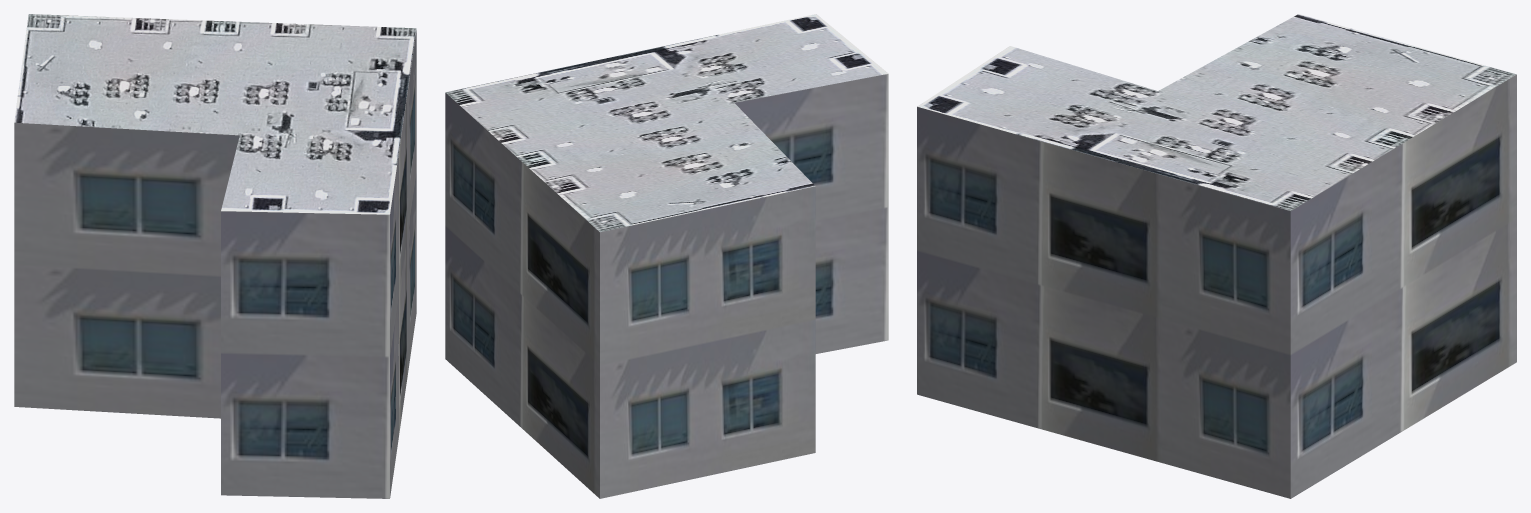
File: ResTex__4395.fbx
3 views of the same model, side by side, from view 1: azimuth 30°, elevation 25°; view 2: azimuth 150°, elevation 25°; view 3: azimuth 270°, elevation 25° (orthographic). The views are drawn at different scales.
Parts seen in each view (by area): view 1: CityEngineMaterial_10_m, CityEngineMaterial_2_m; view 2: CityEngineMaterial_10_m, CityEngineMaterial_2_m; view 3: CityEngineMaterial_10_m, CityEngineMaterial_2_m.
Part boxes in pixels (x1=…): CityEngineMaterial_10_m: x1=14, y1=30, x2=416, y2=498; CityEngineMaterial_2_m: x1=14, y1=14, x2=416, y2=214; CityEngineMaterial_10_m: x1=445, y1=74, x2=888, y2=498; CityEngineMaterial_2_m: x1=445, y1=14, x2=888, y2=232; CityEngineMaterial_10_m: x1=917, y1=74, x2=1516, y2=498; CityEngineMaterial_2_m: x1=917, y1=14, x2=1516, y2=210.
Size of the model in its own units: 8.81 by 6 by 11.33.
Materials: 2 (2 with a texture image).
